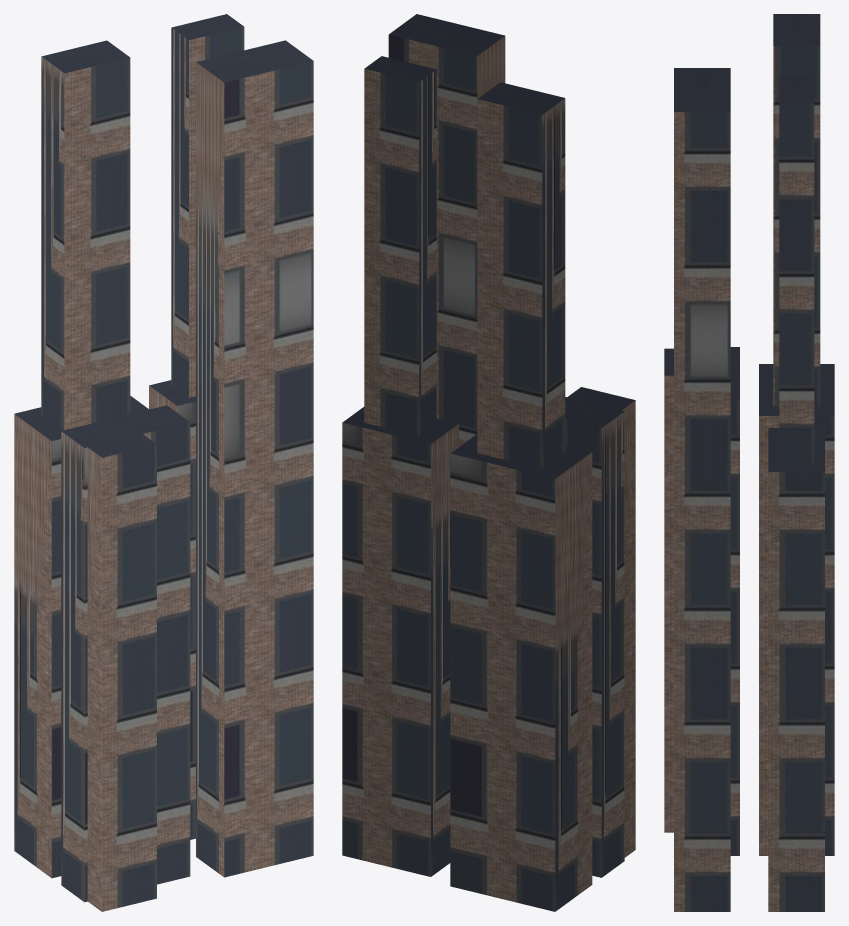
File: city_block_12345_6_31.glb
The picture shows the model from 3 angles, left to right: view 1: azimuth 30°, elevation 25°; view 2: azimuth 150°, elevation 25°; view 3: azimuth 270°, elevation 25°; orthographic projection.
Parts seen in each view (by area): view 1: block_31; view 2: block_31; view 3: block_31.
Part boxes in pixels (x1=…): block_31: x1=14, y1=14, x2=313, y2=911; block_31: x1=342, y1=14, x2=635, y2=911; block_31: x1=664, y1=14, x2=834, y2=911.
Bounding box in the file's own units: 4.05 × 14 × 2.7.
4 materials, 4 textured.
